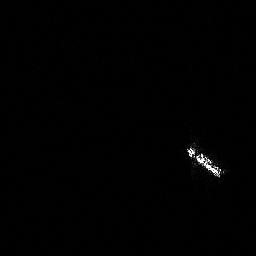ship: (182, 140, 227, 181)
